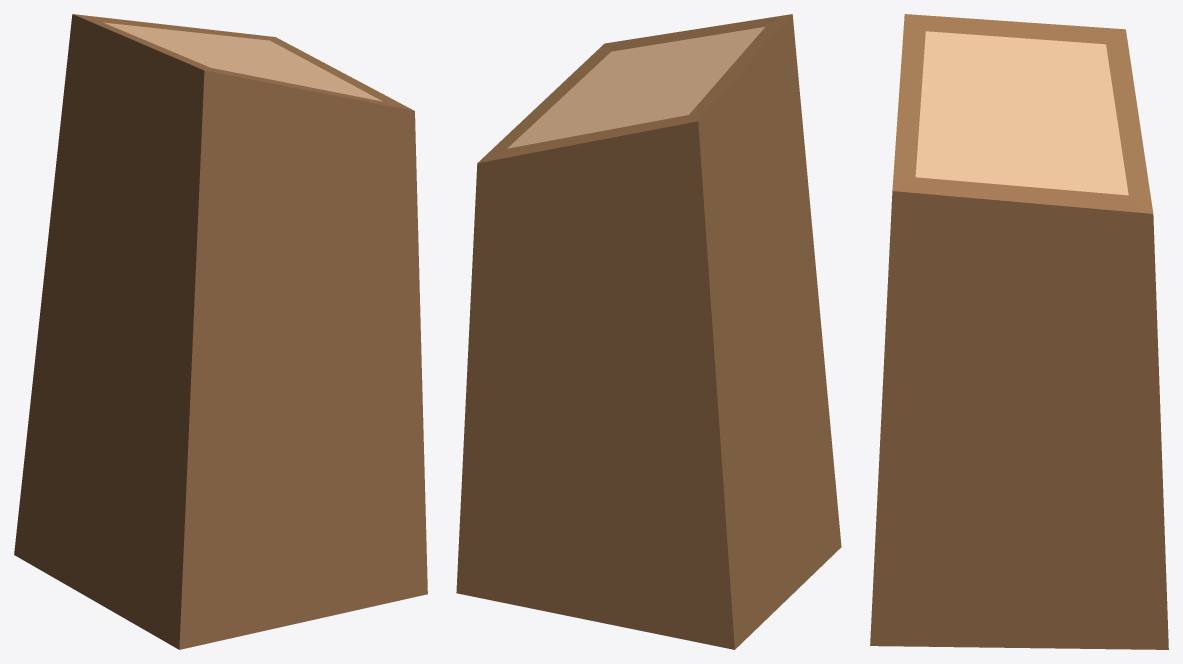
File: Pine_Stump_04.fbx
The picture shows the model from 3 angles, left to right: view 1: azimuth 30°, elevation 25°; view 2: azimuth 150°, elevation 25°; view 3: azimuth 270°, elevation 25°; orthographic projection. The views are drawn at different scales.
Visible parts, largest first — view 1: Pine_Stump_04; view 2: Pine_Stump_04; view 3: Pine_Stump_04.
Boxes of the visible parts, <box> form: Pine_Stump_04: <box>14,14,427,649</box>; Pine_Stump_04: <box>456,14,841,649</box>; Pine_Stump_04: <box>870,14,1168,649</box>.
Size of the model in its own units: 24.73 by 47.33 by 23.91.
